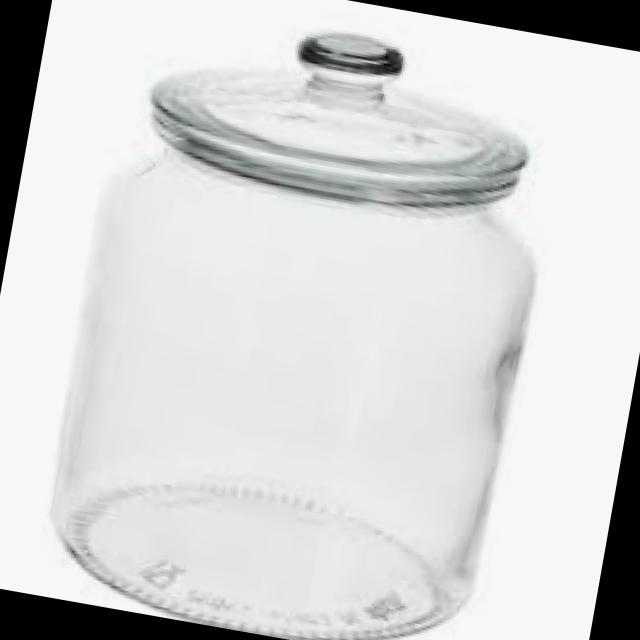ToplesKaca: (28, 0, 577, 640)
